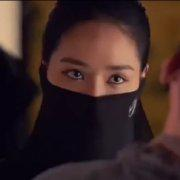OK: (49, 27, 140, 143)
